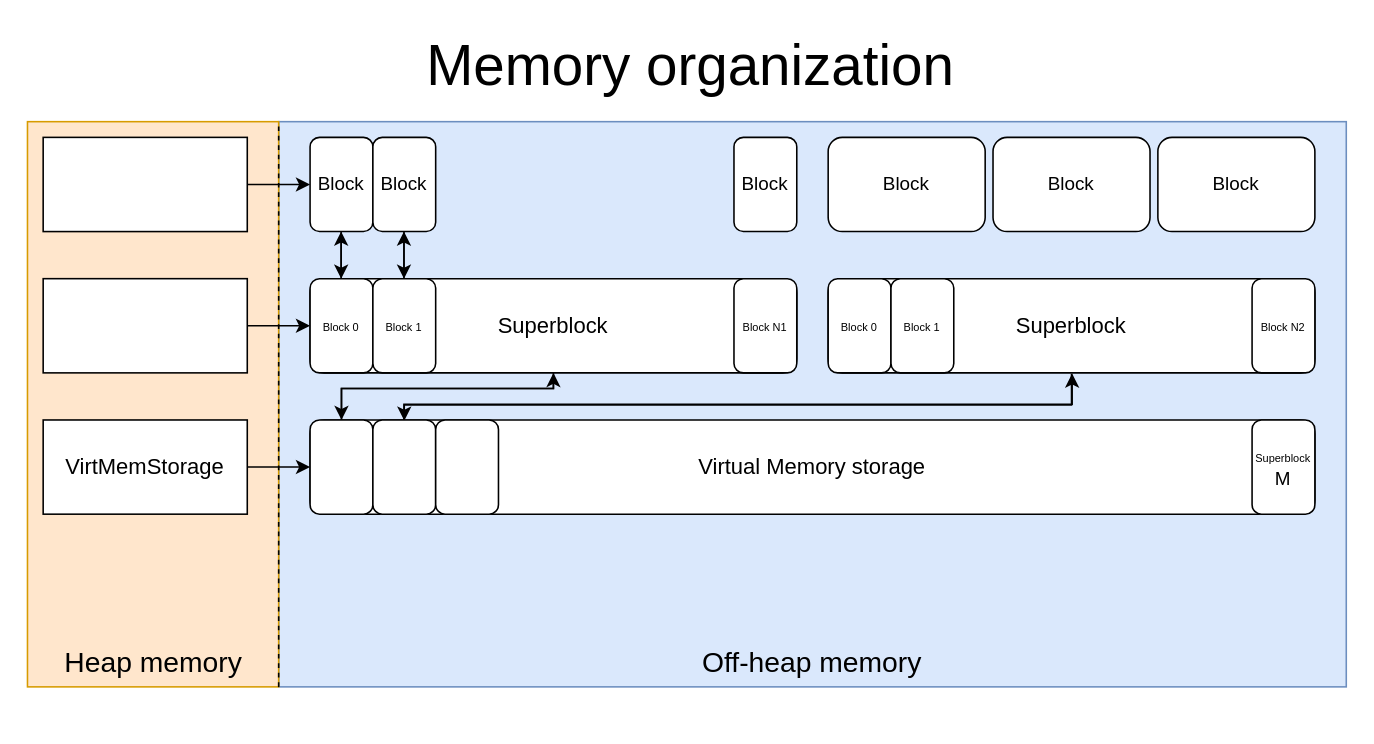
Image size: 1374x744. Some labels were removed from this diagram. Here are the shapes that lost their labels. From the top down, the centre of each, then its label:
At point 144,184: "IMemoryAllocator. ReturnValue".
At point 144,325: "SwapBlockAllocator".
At point 341,466: "Superblock 0".
At point 403,466: "Superblock 1".
